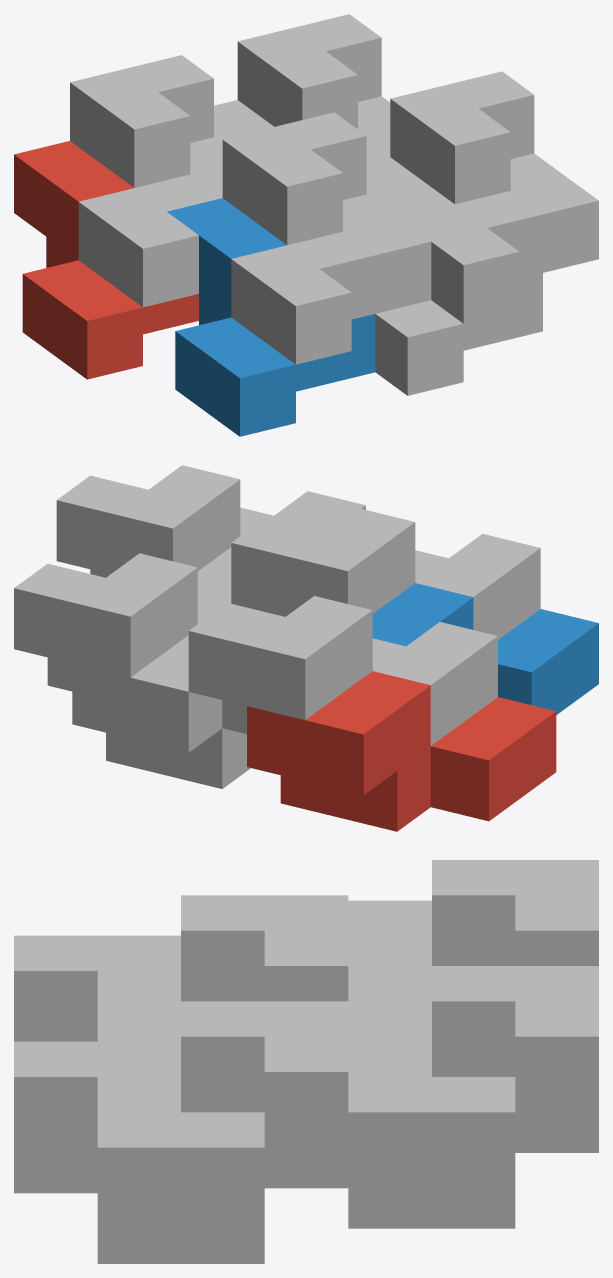
File: tiling.obj
3 views of the same model, one above another, from view 1: azimuth 30°, elevation 25°; view 2: azimuth 150°, elevation 25°; view 3: azimuth 270°, elevation 25° (orthographic). The views are drawn at different scales.
Visible parts, largest first — view 1: copy_1_domain_4, copy_1_domain_8, copy_1_domain_3, copy_1_domain_1, copy_1_domain_2, copy_1_domain_7, copy_1_domain_6, copy_1_domain_5; view 2: copy_1_domain_1, copy_1_domain_3, copy_1_domain_4, copy_1_domain_7, copy_1_domain_8, copy_1_domain_5, copy_1_domain_2, copy_1_domain_6; view 3: copy_1_domain_8, copy_1_domain_7, copy_1_domain_4, copy_1_domain_3, copy_1_domain_6, copy_1_domain_5.
Part boxes in pixels (x1,y1,x2,y2): copy_1_domain_4: (222, 112, 431, 364); copy_1_domain_8: (390, 71, 598, 323); copy_1_domain_3: (70, 55, 222, 307); copy_1_domain_1: (14, 141, 198, 379); copy_1_domain_2: (167, 198, 375, 436); copy_1_domain_7: (237, 14, 390, 162); copy_1_domain_6: (366, 157, 542, 395); copy_1_domain_5: (214, 100, 273, 142); copy_1_domain_1: (247, 671, 556, 831); copy_1_domain_3: (188, 596, 497, 745); copy_1_domain_4: (231, 508, 540, 639); copy_1_domain_7: (14, 553, 284, 691); copy_1_domain_8: (56, 465, 365, 577); copy_1_domain_5: (72, 635, 250, 788); copy_1_domain_2: (372, 583, 598, 714); copy_1_domain_6: (197, 547, 231, 603); copy_1_domain_8: (14, 1001, 348, 1223); copy_1_domain_7: (348, 966, 598, 1188); copy_1_domain_4: (14, 895, 348, 1041); copy_1_domain_3: (348, 860, 598, 1006); copy_1_domain_6: (14, 1147, 348, 1263); copy_1_domain_5: (348, 1112, 598, 1228).
Size of the model in its own units: 8 by 3 by 7.
